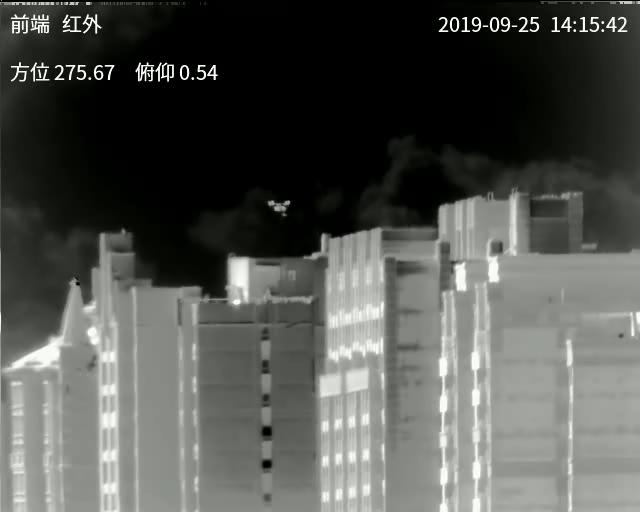uav: (267, 194, 292, 217)
